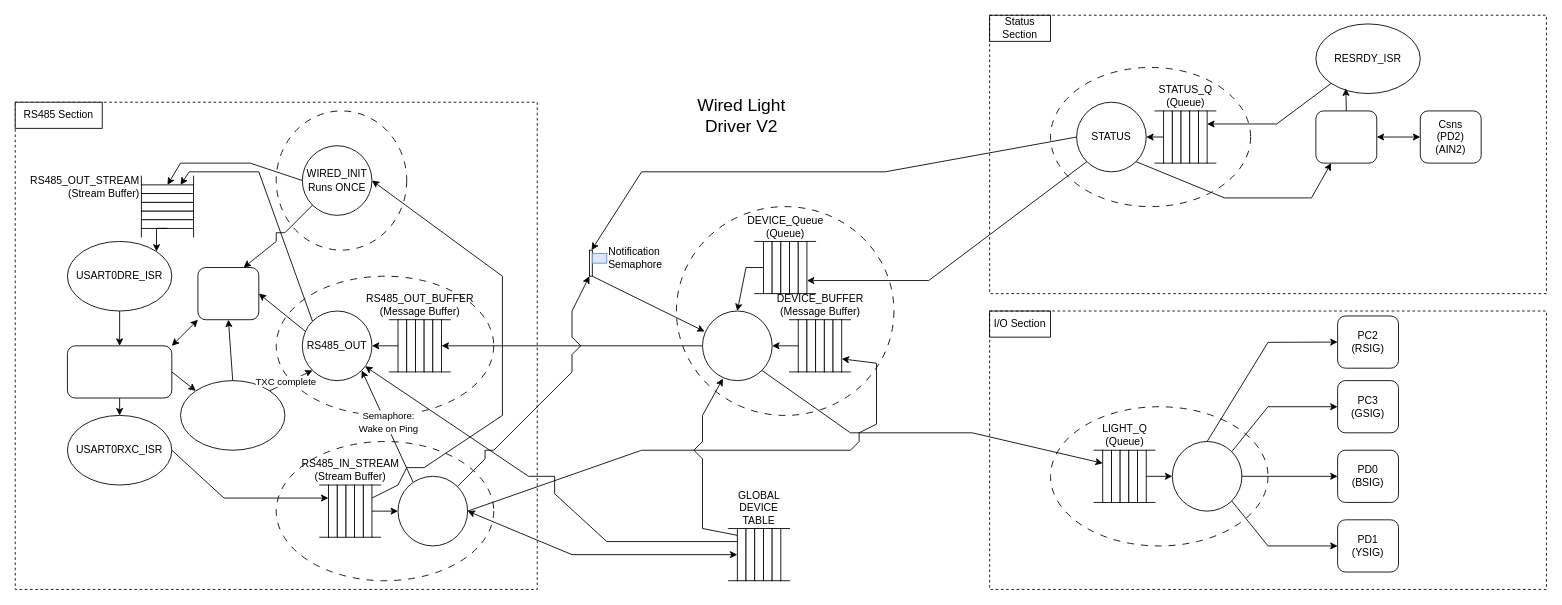
The diagram is 1562 pixels wide and 605 high, and some of its shapes have lost their labels. Here are the shapes that lost their labels. From the top down, the centre of each, then its label:
At [1346,136]: "ADC0".
At [228,293]: "PA2 (485R/W)".
At [737,345]: "DEVICE SPECIFIC (blocks for notification)".
At [119,371]: "USART0 RS485 [MUTEX]".
At [232,415]: "USART0TXC_ISR".
At [1206,476]: "LIGHT_OUT".
At [432,510]: "RS485_IN".
